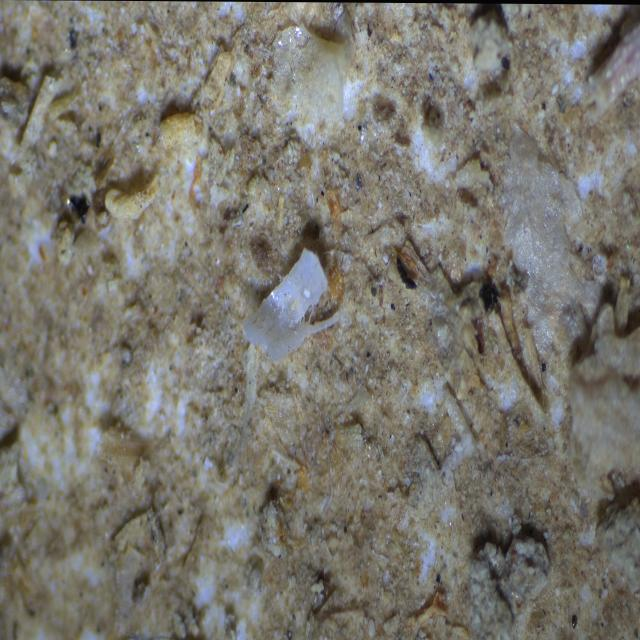microplastic: (229, 244, 360, 371)
